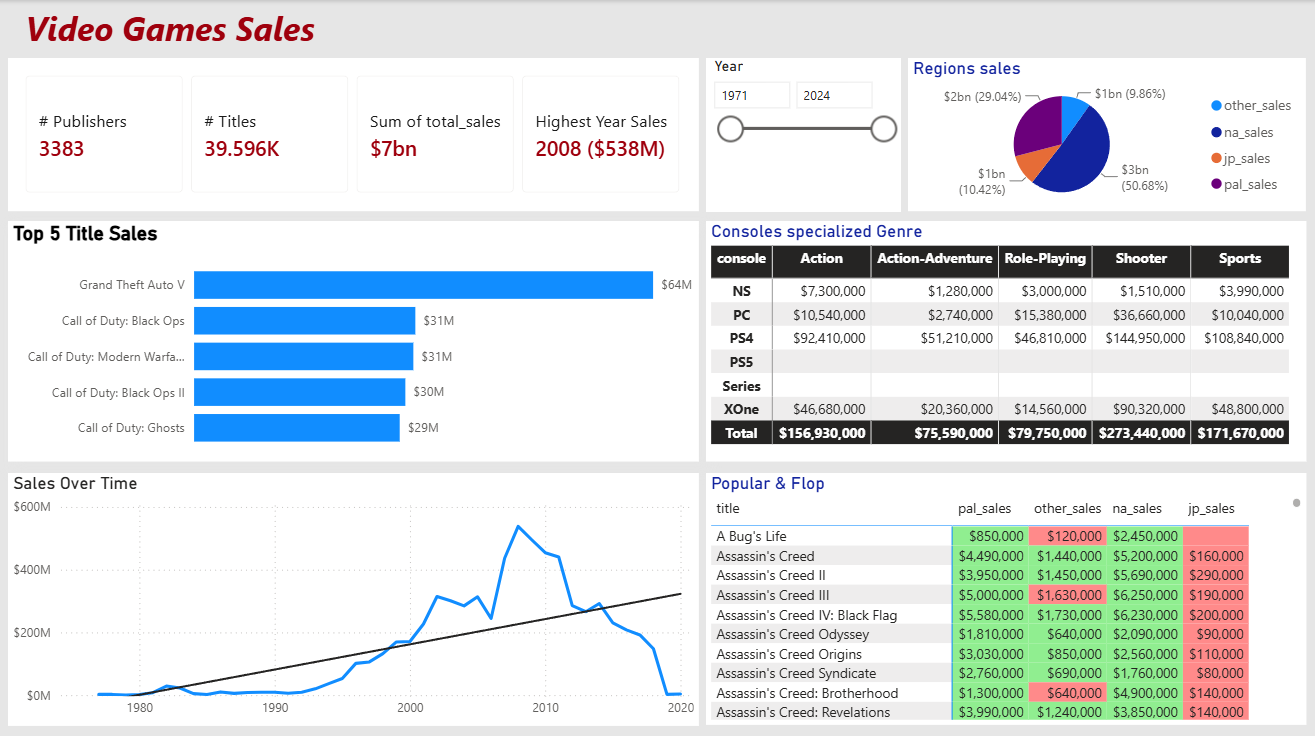

What the dashboard file says about the page in this screenshot:
{"tool":"powerbi","page":{"name":"Video Games Sales","canvas":[1280,720],"ordinal":0},"visuals":[{"type":"cardVisual","fields":{"Data":["Count(sales.publisher)","Count(sales.title)","Sum(sales.total_sales)","sales.Top_Year_Combined"]},"box":[7.8,56.4,672.1,148.8],"z":0},{"type":"barChart","title":"Top 5 Title Sales","fields":{"Category":["sales.title"],"Y":["Sum(sales.total_sales)"]},"box":[7.8,215,672.1,234.4],"z":1000},{"type":"textbox","box":[19.5,0,321.9,68.1],"z":2000},{"type":"lineChart","title":"Sales Over Time","fields":{"Category":["sales.Clean_Year"],"Y":["Sum(sales.total_sales)"]},"box":[7.8,460.1,672.1,246.1],"z":3000},{"type":"pivotTable","title":"Consoles specialized Genre","fields":{"Rows":["sales.console"],"Columns":["sales.genre"],"Values":["Sum(sales.total_sales)"]},"box":[686.7,215,583.6,234.4],"z":4000},{"type":"pivotTable","title":"Popular & Flop","fields":{"Rows":["sales.title"],"Values":["Sum(sales.pal_sales)","Sum(sales.other_sales)","Sum(sales.na_sales)","Sum(sales.jp_sales)"]},"box":[686.7,460.1,583.6,245.1],"z":5000},{"type":"slicer","fields":{"Values":["sales.Clean_Year"]},"box":[686.7,56.4,188.7,148.8],"z":6000},{"type":"pieChart","title":"Regions sales","fields":{"Y":["Sum(sales.other_sales)","Sum(sales.na_sales)","Sum(sales.jp_sales)","Sum(sales.pal_sales)"]},"box":[883.2,56.4,387.1,148.8],"z":7000}]}

Visuals, with their boxes in screenshot pixels (x1, y1, x2, y2), scaled from the page's 1280x720 canvas onto the 1315x736 screenshot:
cardVisual - Count(sales.publisher) x Count(sales.title): box(8, 58, 698, 210)
"Top 5 Title Sales" barChart: box(8, 220, 698, 459)
textbox: box(20, 0, 351, 70)
"Sales Over Time" lineChart: box(8, 470, 698, 722)
"Consoles specialized Genre" pivotTable: box(705, 220, 1305, 459)
"Popular & Flop" pivotTable: box(705, 470, 1305, 721)
slicer - sales.Clean_Year: box(705, 58, 899, 210)
"Regions sales" pieChart: box(907, 58, 1305, 210)
